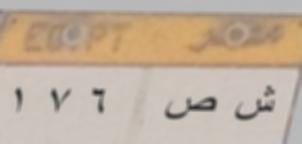1: (6, 82, 30, 120)
6: (90, 84, 109, 122)
7: (46, 78, 72, 118)
saad: (160, 92, 218, 126)
sheen: (230, 83, 280, 125)
